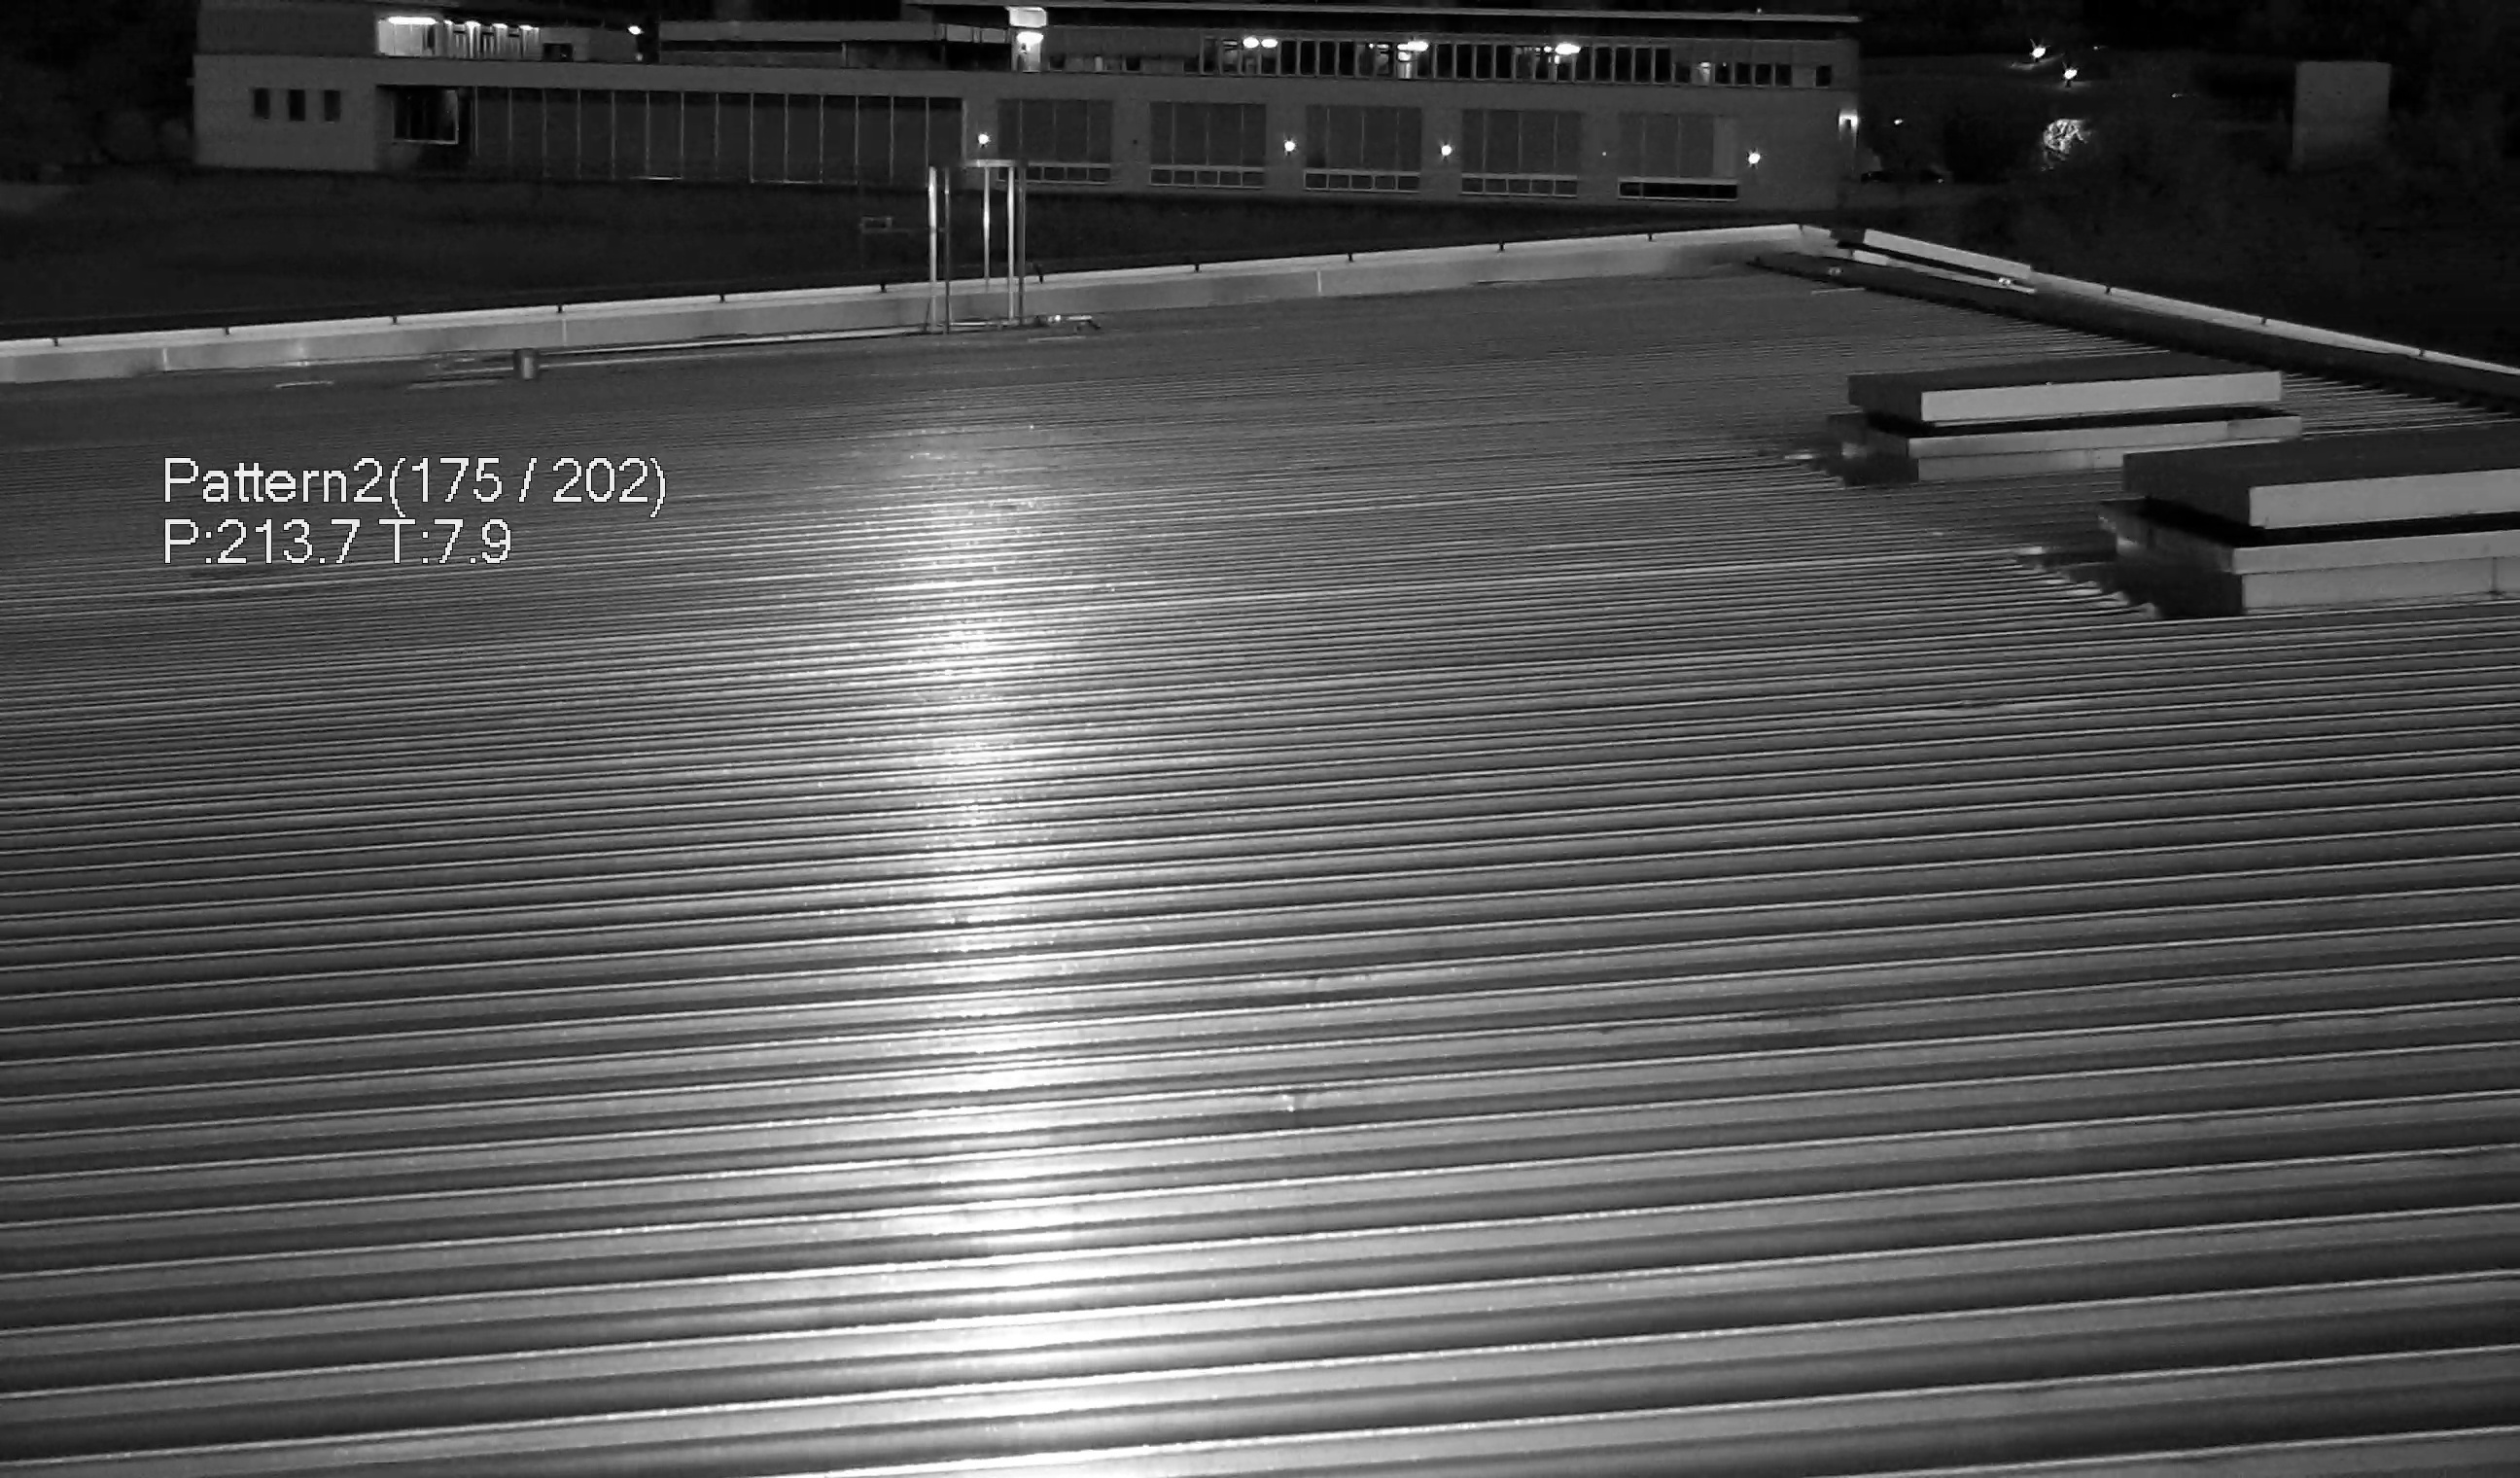Other: (2082, 473, 2277, 614)
